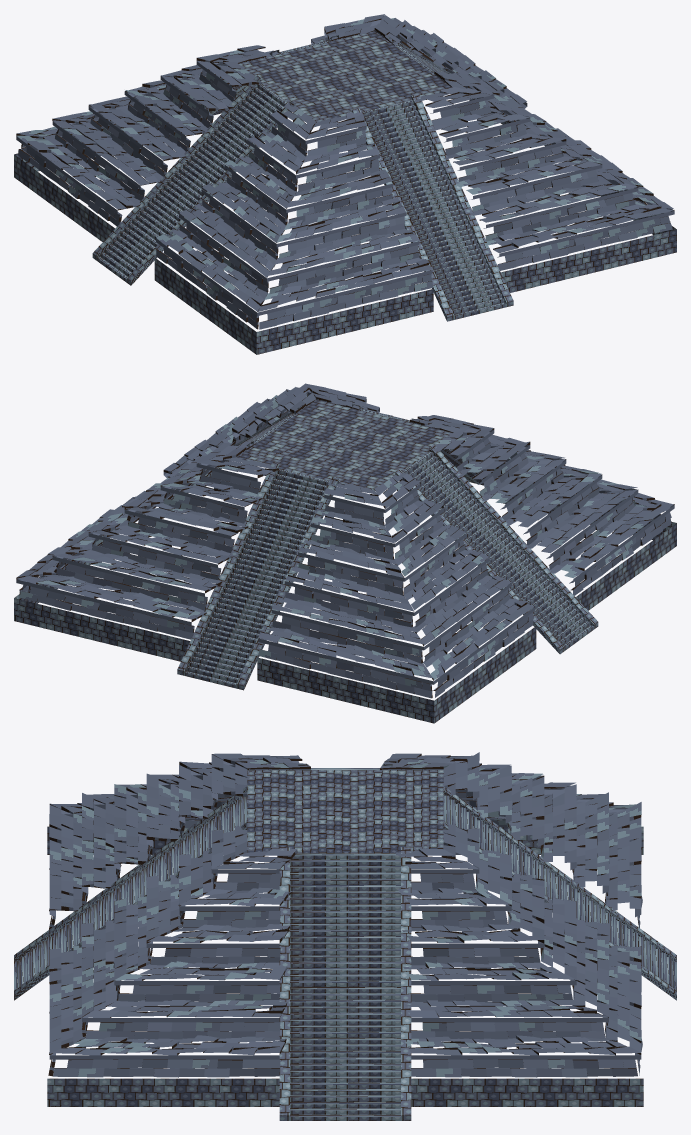
File: RUI-06_Piramide.gltf
The picture shows the model from 3 angles, top to bottom: view 1: azimuth 30°, elevation 25°; view 2: azimuth 150°, elevation 25°; view 3: azimuth 270°, elevation 25°; orthographic projection. The views are drawn at different scales.
Parts seen in each view (by area): view 1: RUI-06_Piramide-col; view 2: RUI-06_Piramide-col; view 3: RUI-06_Piramide-col.
Part boxes in pixels (bbox=[...]): RUI-06_Piramide-col: bbox=[14, 14, 676, 354]; RUI-06_Piramide-col: bbox=[14, 383, 676, 723]; RUI-06_Piramide-col: bbox=[14, 752, 676, 1120].
Bounding box in the file's own units: 35.8 × 10.42 × 35.8.
Materials: 1 (1 with a texture image).
